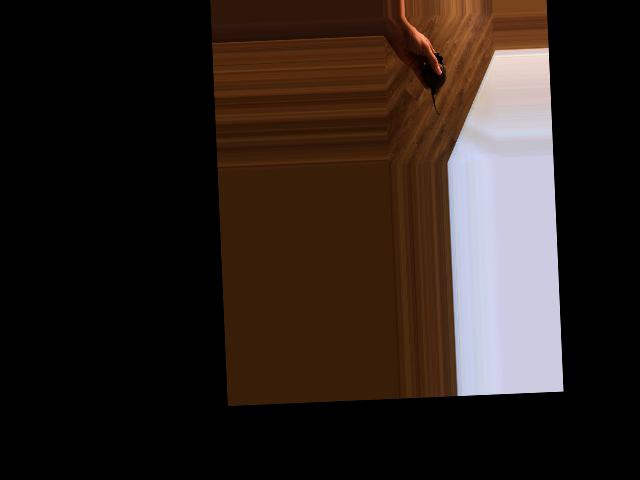beet: (422, 52, 447, 116)
